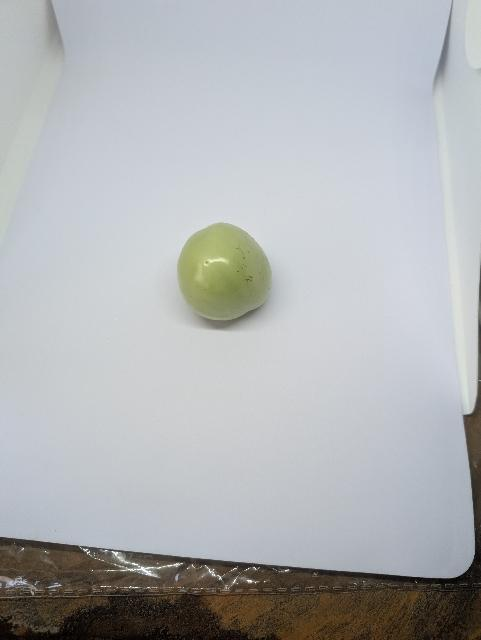green: (165, 213, 286, 333)
